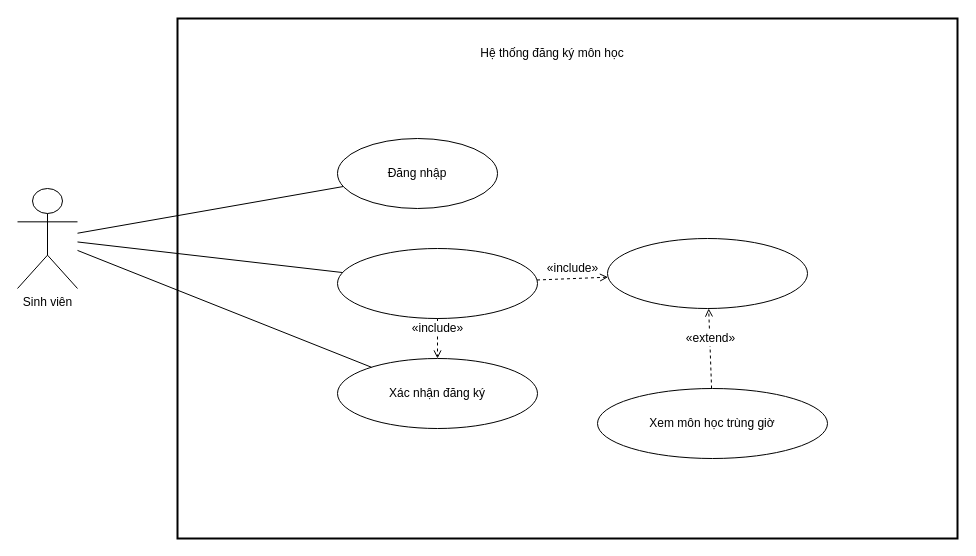
This 976x556 diagram has some shape labels left out. The box of each missing label's shape, as (x1, y1, x2, y2) in pixels:
Kiểm tra lịch học: (606, 238, 808, 308)
Đăng ký môn học: (336, 248, 538, 318)
